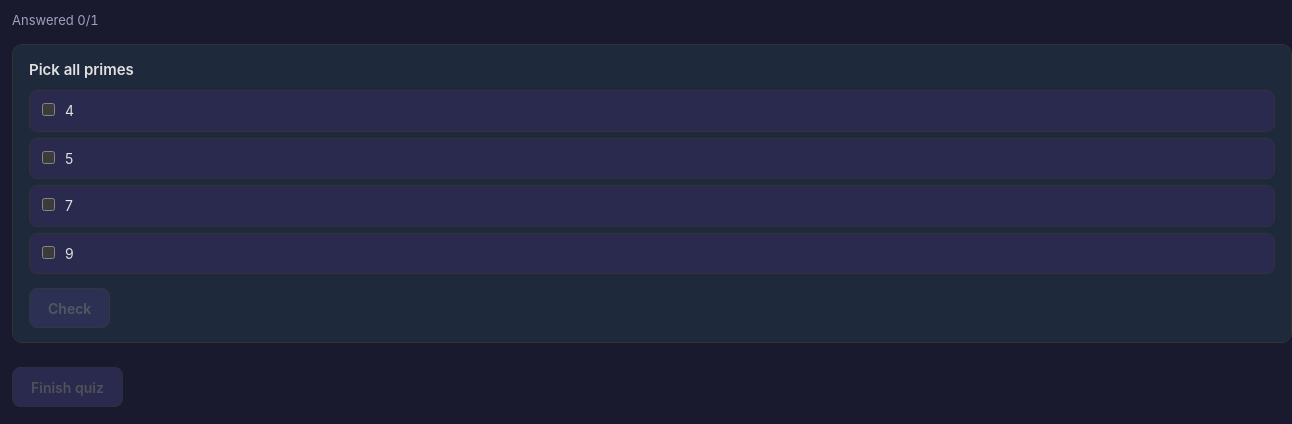
Test: <QuizStep> › multi-выбор: точное совпадение множества → правильно; лишний или пропущенный → неправильно
The image size is (1292, 424).
Click the checkbox with test id "option-0-b".
click(48, 157)  # box [42, 151, 55, 164]
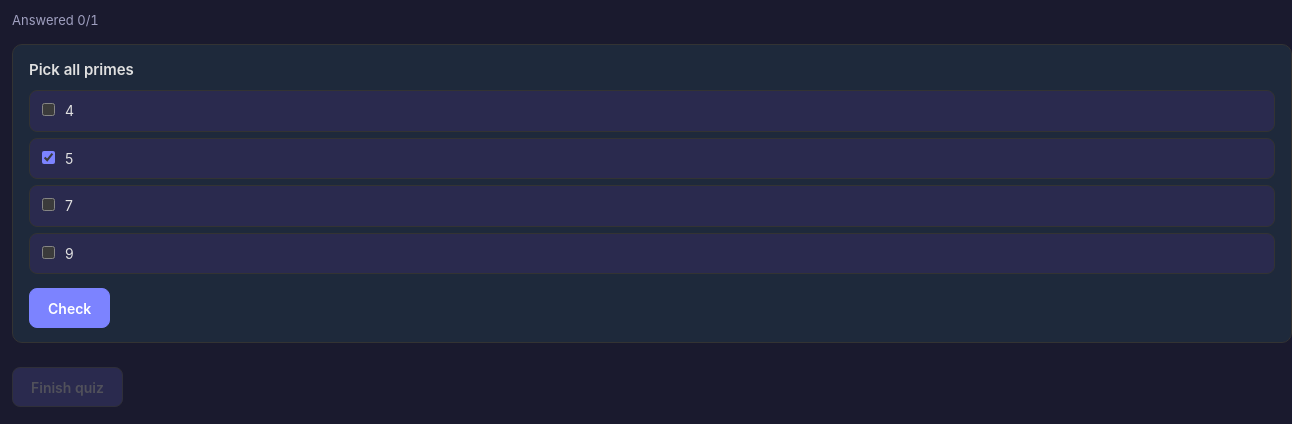
Click the checkbox with test id "option-0-c".
click(48, 205)  # box [42, 198, 55, 211]
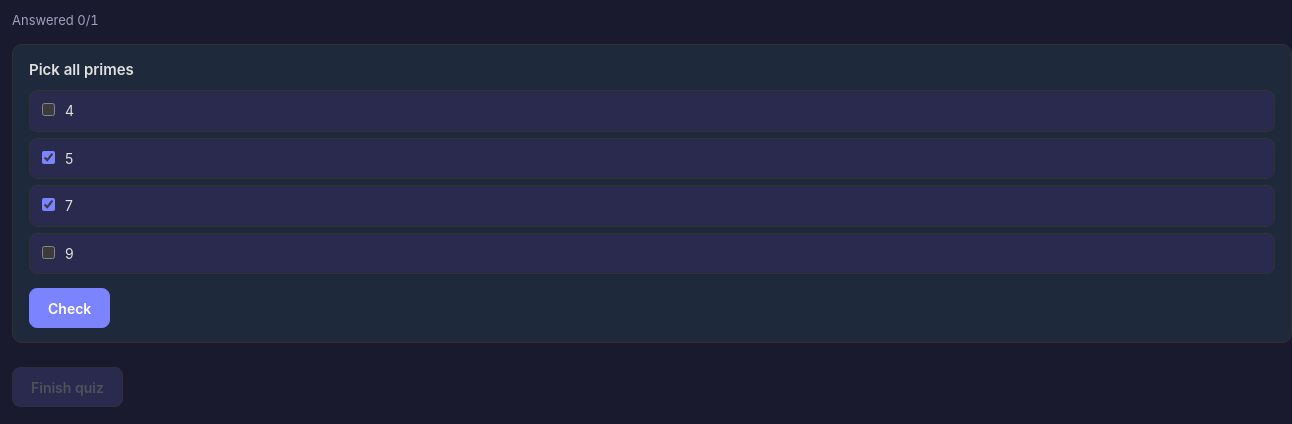
Click the button with test id "check-0".
click(70, 308)  # box [29, 288, 110, 328]
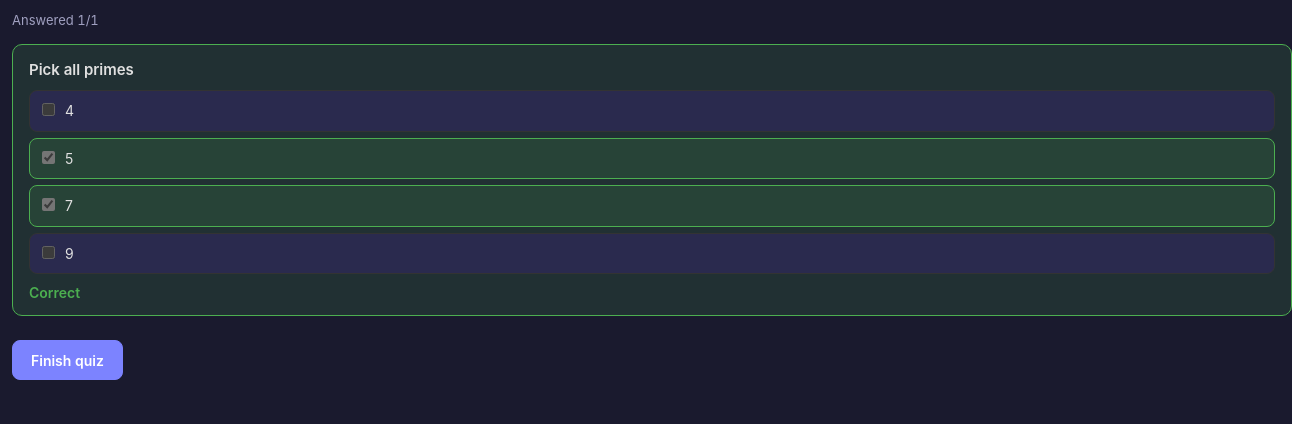
Check: the text with test id "question-result-0" reads "Correct", box [29, 284, 80, 301]
